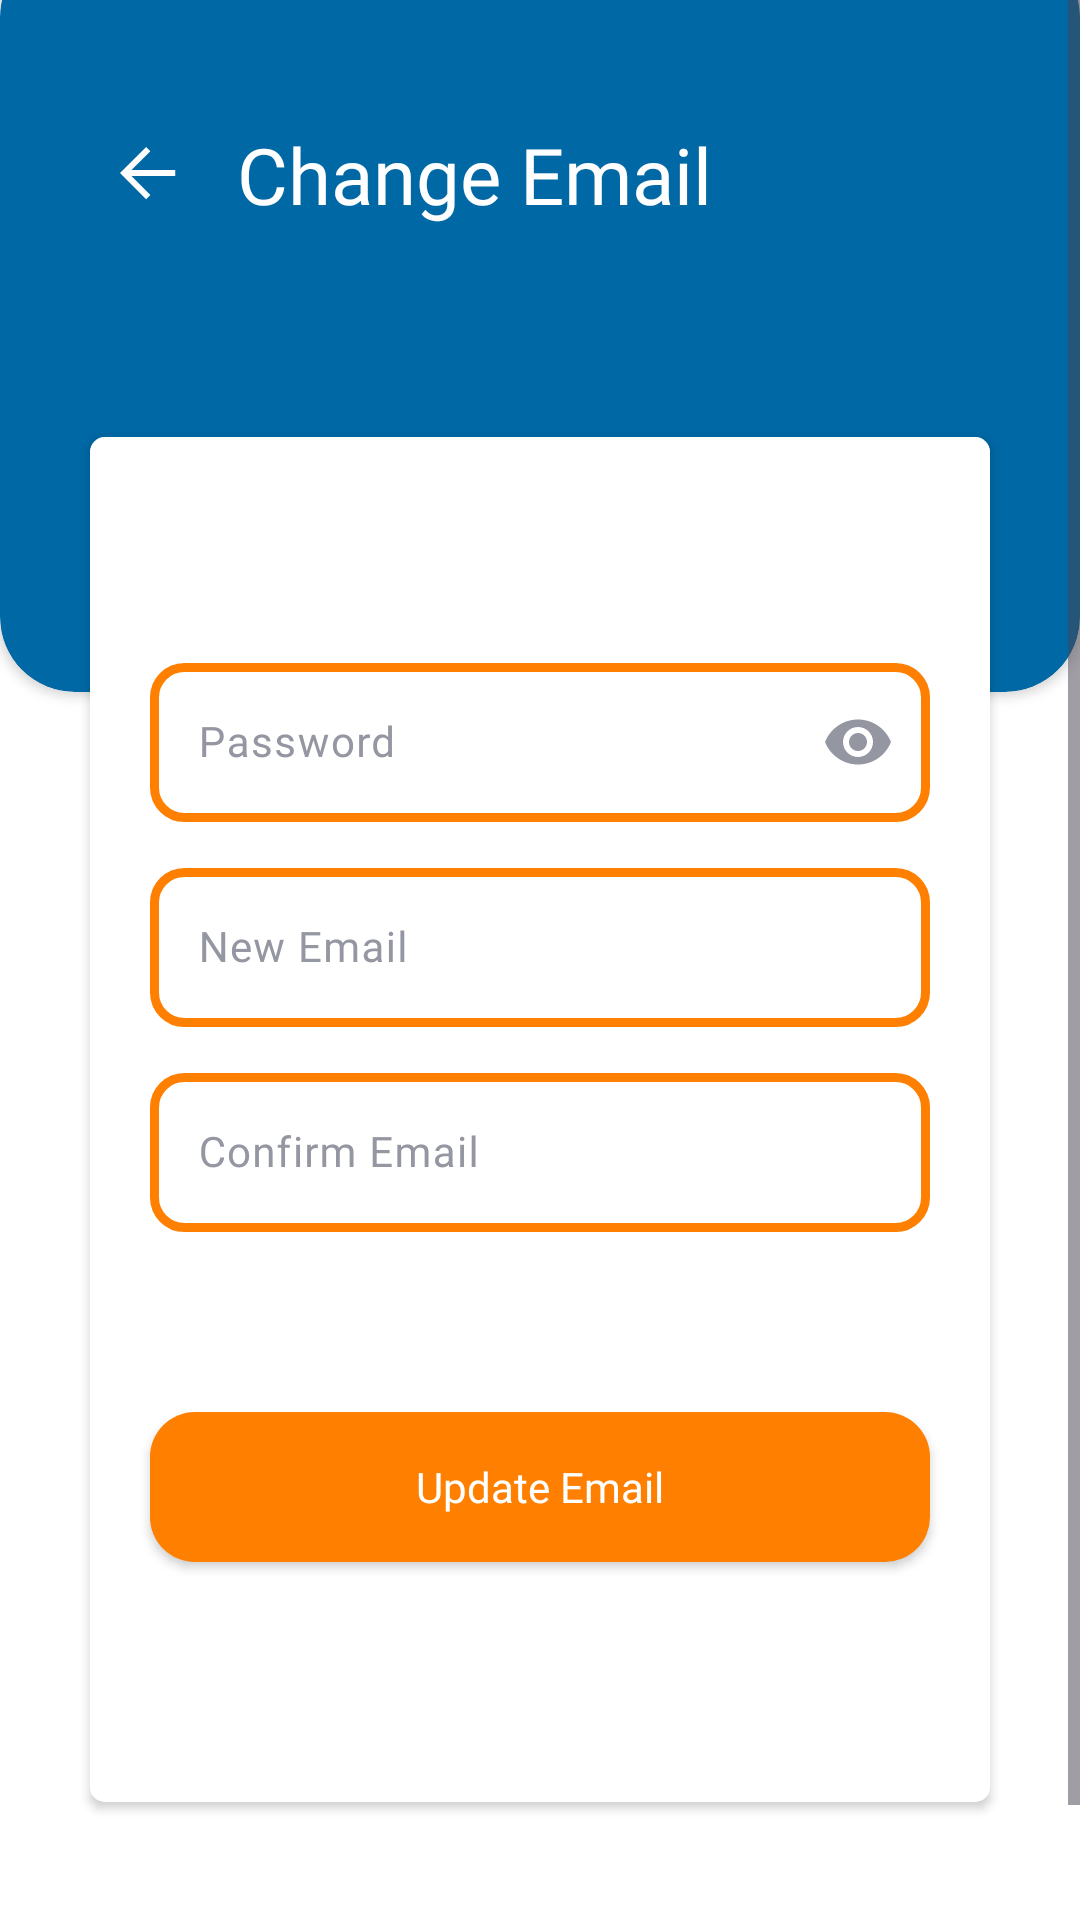

Icon click points for this 1080*1920 phone screenshot, format (x=x, y=y):
arrow: (x=148, y=173)
